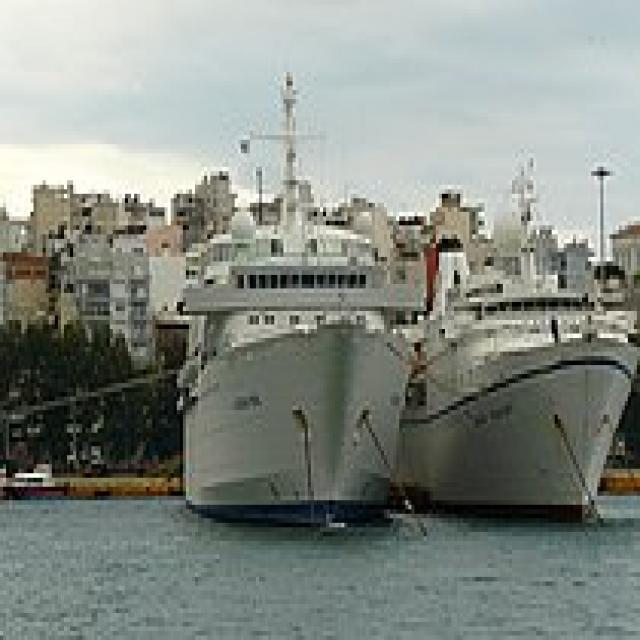Ship: (166, 55, 431, 533), (382, 145, 640, 533)
